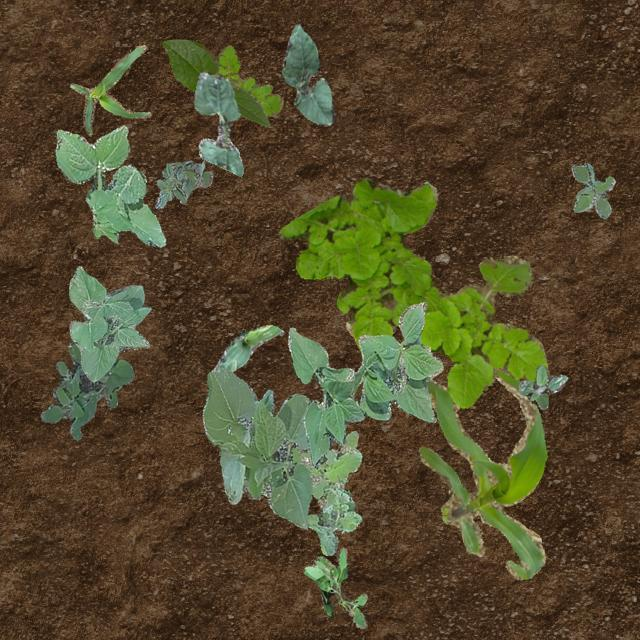crop: (344, 320, 546, 578), (286, 300, 442, 467), (202, 366, 312, 528), (68, 264, 150, 380), (162, 38, 268, 125), (68, 44, 150, 134), (280, 22, 334, 124), (194, 70, 242, 176), (212, 324, 282, 371)
weed: (277, 176, 548, 408), (54, 124, 164, 246), (40, 340, 134, 440), (298, 430, 361, 554), (302, 546, 366, 628), (212, 44, 282, 116), (154, 160, 212, 208), (570, 162, 614, 218), (518, 364, 566, 408), (290, 446, 302, 464)
